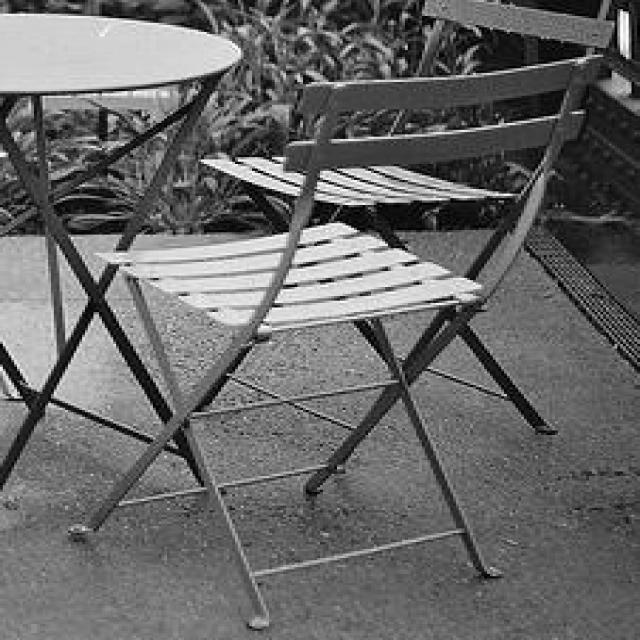chair: (72, 56, 611, 631), (204, 0, 620, 469)
